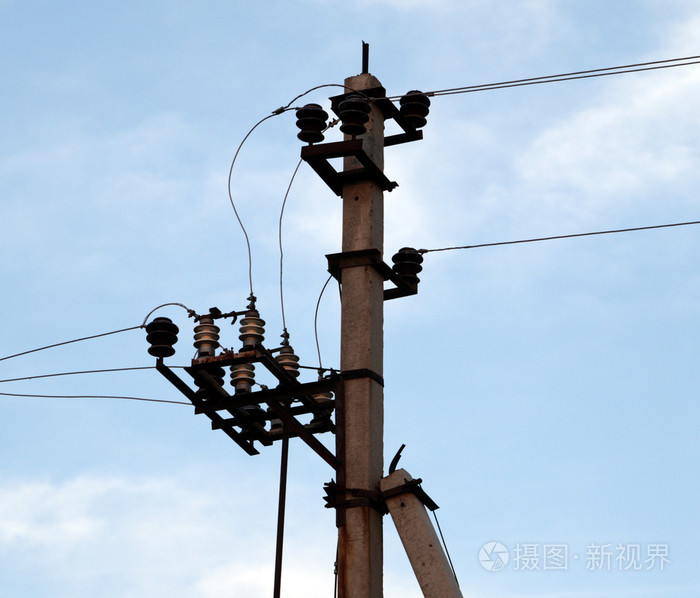insulator: (389, 248, 429, 285), (143, 317, 178, 359), (396, 91, 435, 127), (293, 103, 329, 141)
